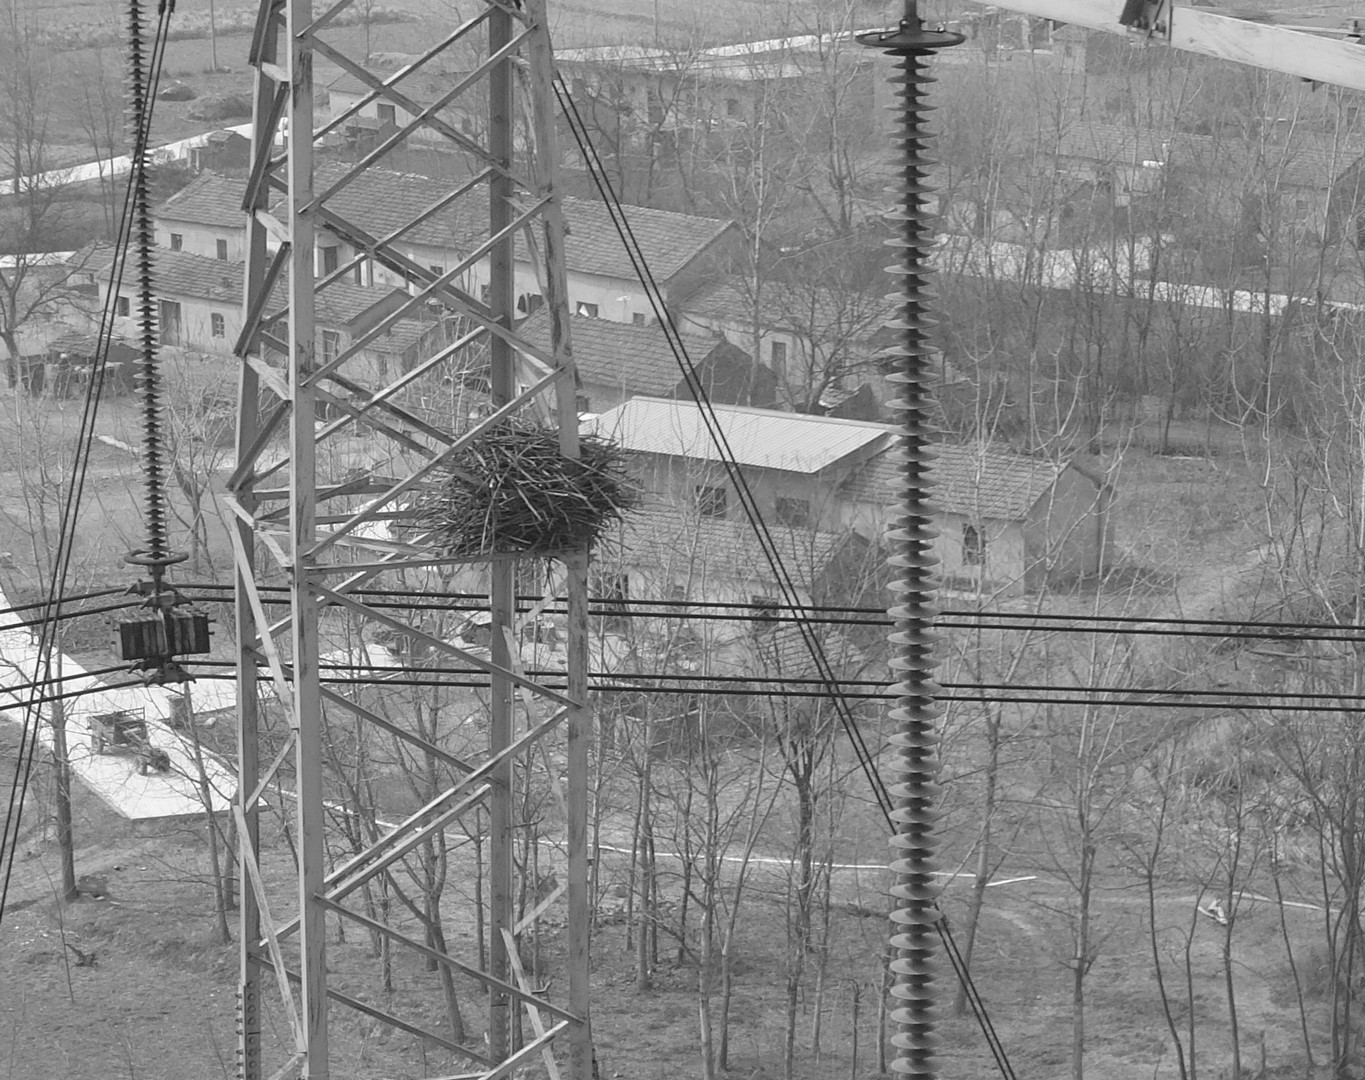niaowo: (409, 415, 661, 570)
